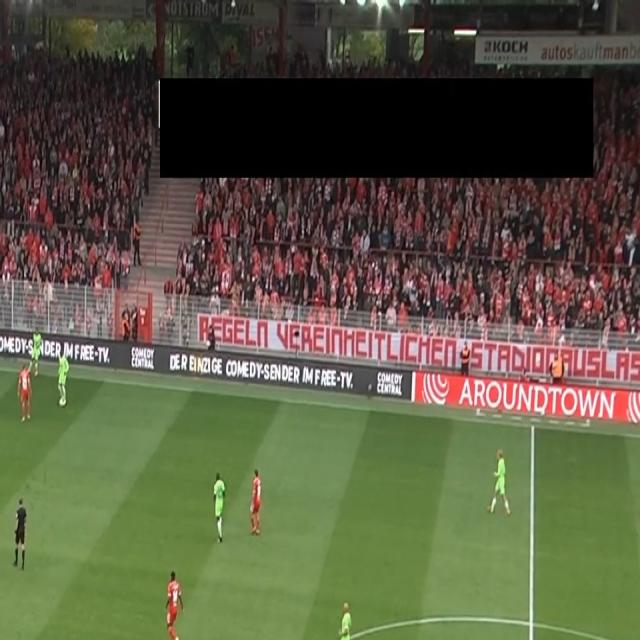ball: (58, 397, 64, 409)
